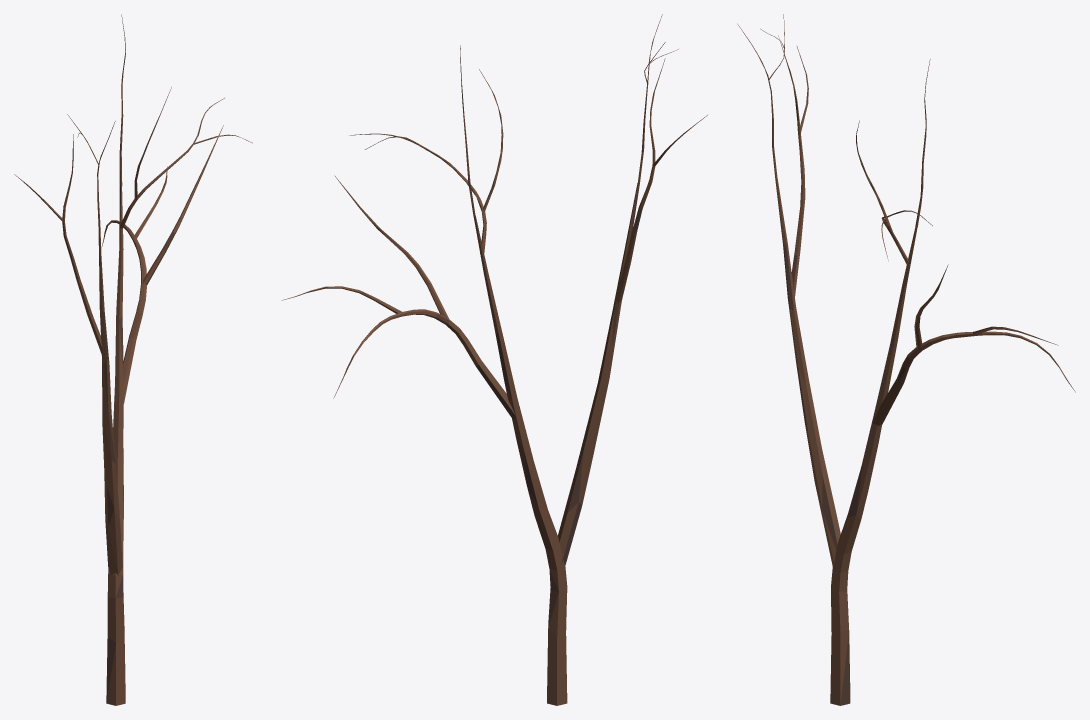
File: mesh_tree_oak_04_dead.fbx
The picture shows the model from 3 angles, left to right: view 1: azimuth 30°, elevation 25°; view 2: azimuth 150°, elevation 25°; view 3: azimuth 270°, elevation 25°; orthographic projection. The views are drawn at different scales.
Visible parts, largest first — view 1: mesh_tree_oak_04_dead_LOD0; view 2: mesh_tree_oak_04_dead_LOD0; view 3: mesh_tree_oak_04_dead_LOD0.
Boxes of the visible parts, x1,y1,x2,y2 form: mesh_tree_oak_04_dead_LOD0: (14, 14, 252, 705); mesh_tree_oak_04_dead_LOD0: (281, 14, 707, 705); mesh_tree_oak_04_dead_LOD0: (737, 14, 1075, 705).
Size of what is drawn, in the model's own units: 2.95 by 6.4 by 2.95.
